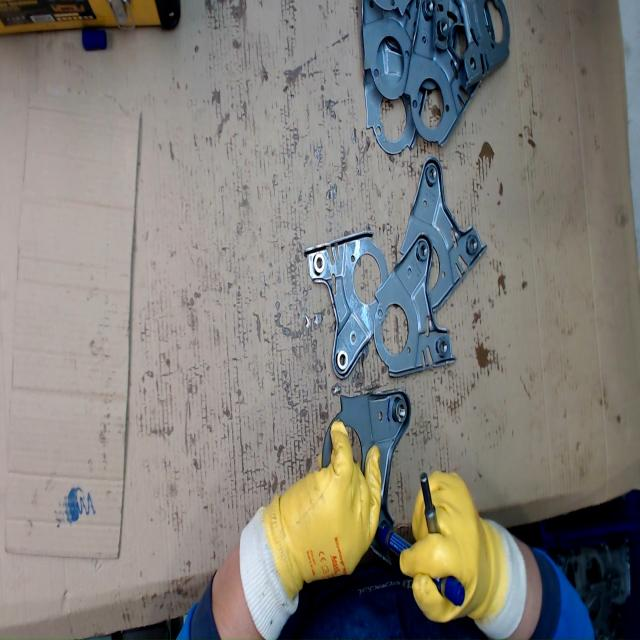hands: (266, 418, 384, 584), (398, 468, 498, 626)
